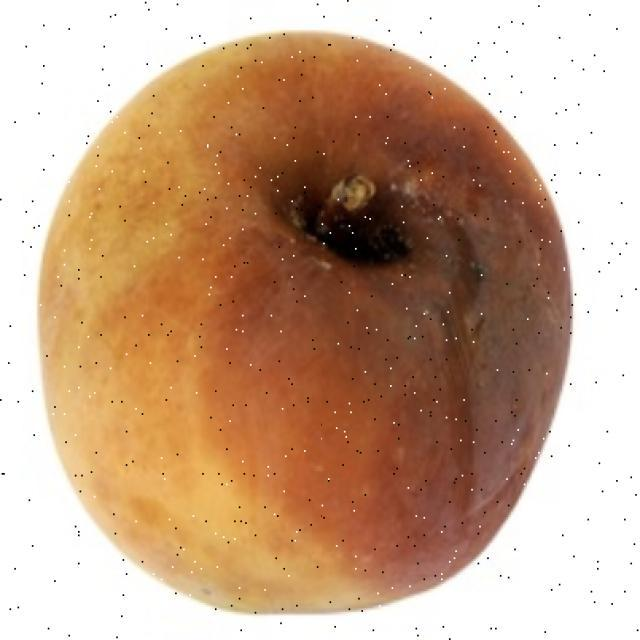Rotten: (63, 30, 560, 625)
